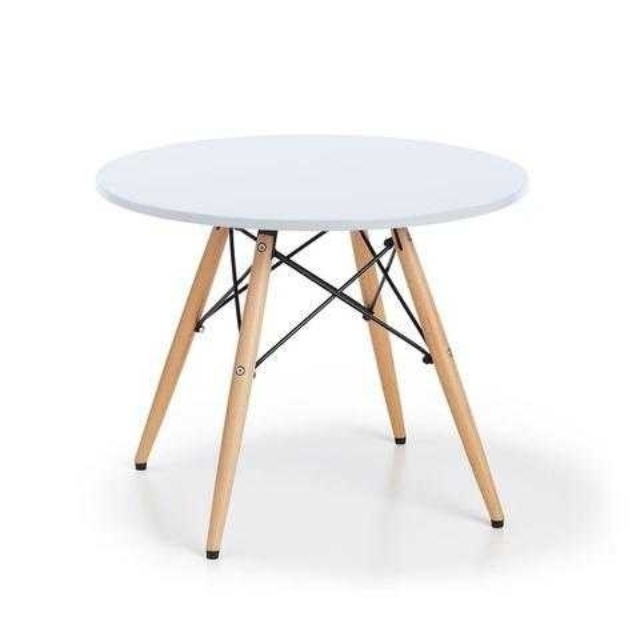obstacle: (97, 135, 525, 557)
